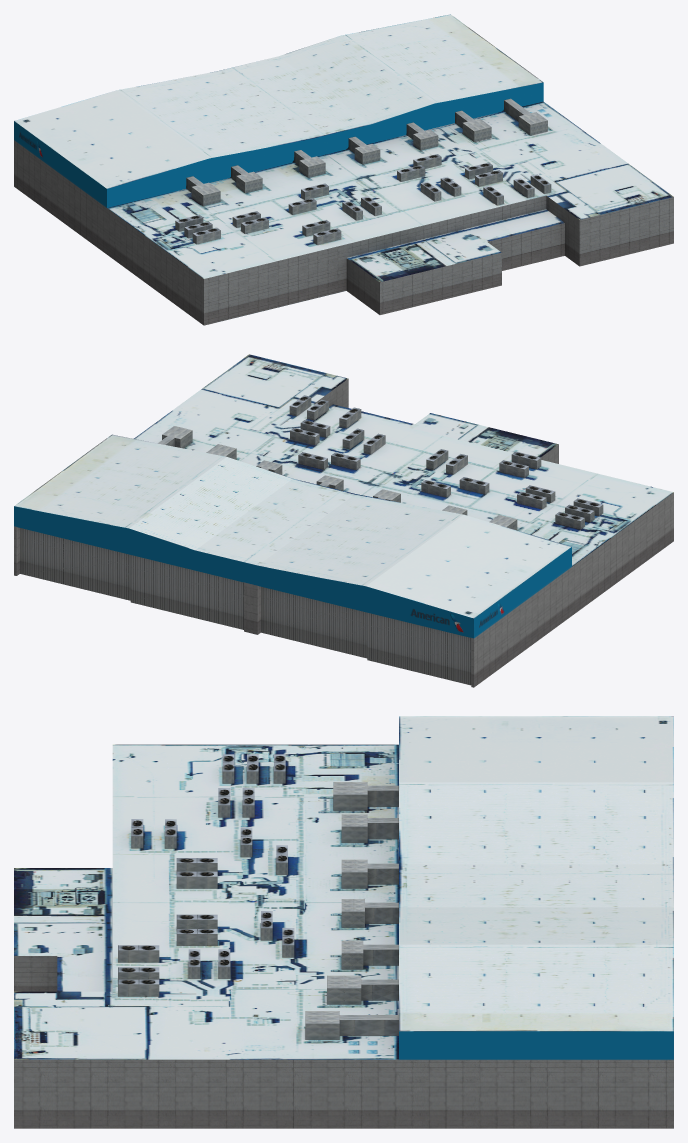
The model's file is Building4.gltf.
The picture shows the model from 3 angles, top to bottom: view 1: azimuth 30°, elevation 25°; view 2: azimuth 150°, elevation 25°; view 3: azimuth 270°, elevation 25°; orthographic projection. The views are drawn at different scales.
Visible parts, largest first — view 1: Building4; view 2: Building4; view 3: Building4.
Boxes of the visible parts, bbox=[...] form: Building4: bbox=[14, 14, 673, 325]; Building4: bbox=[14, 354, 673, 687]; Building4: bbox=[14, 716, 673, 1128].
Bounding box in the file's own units: 167 × 26 × 148.
Materials: 1 (1 with a texture image).
